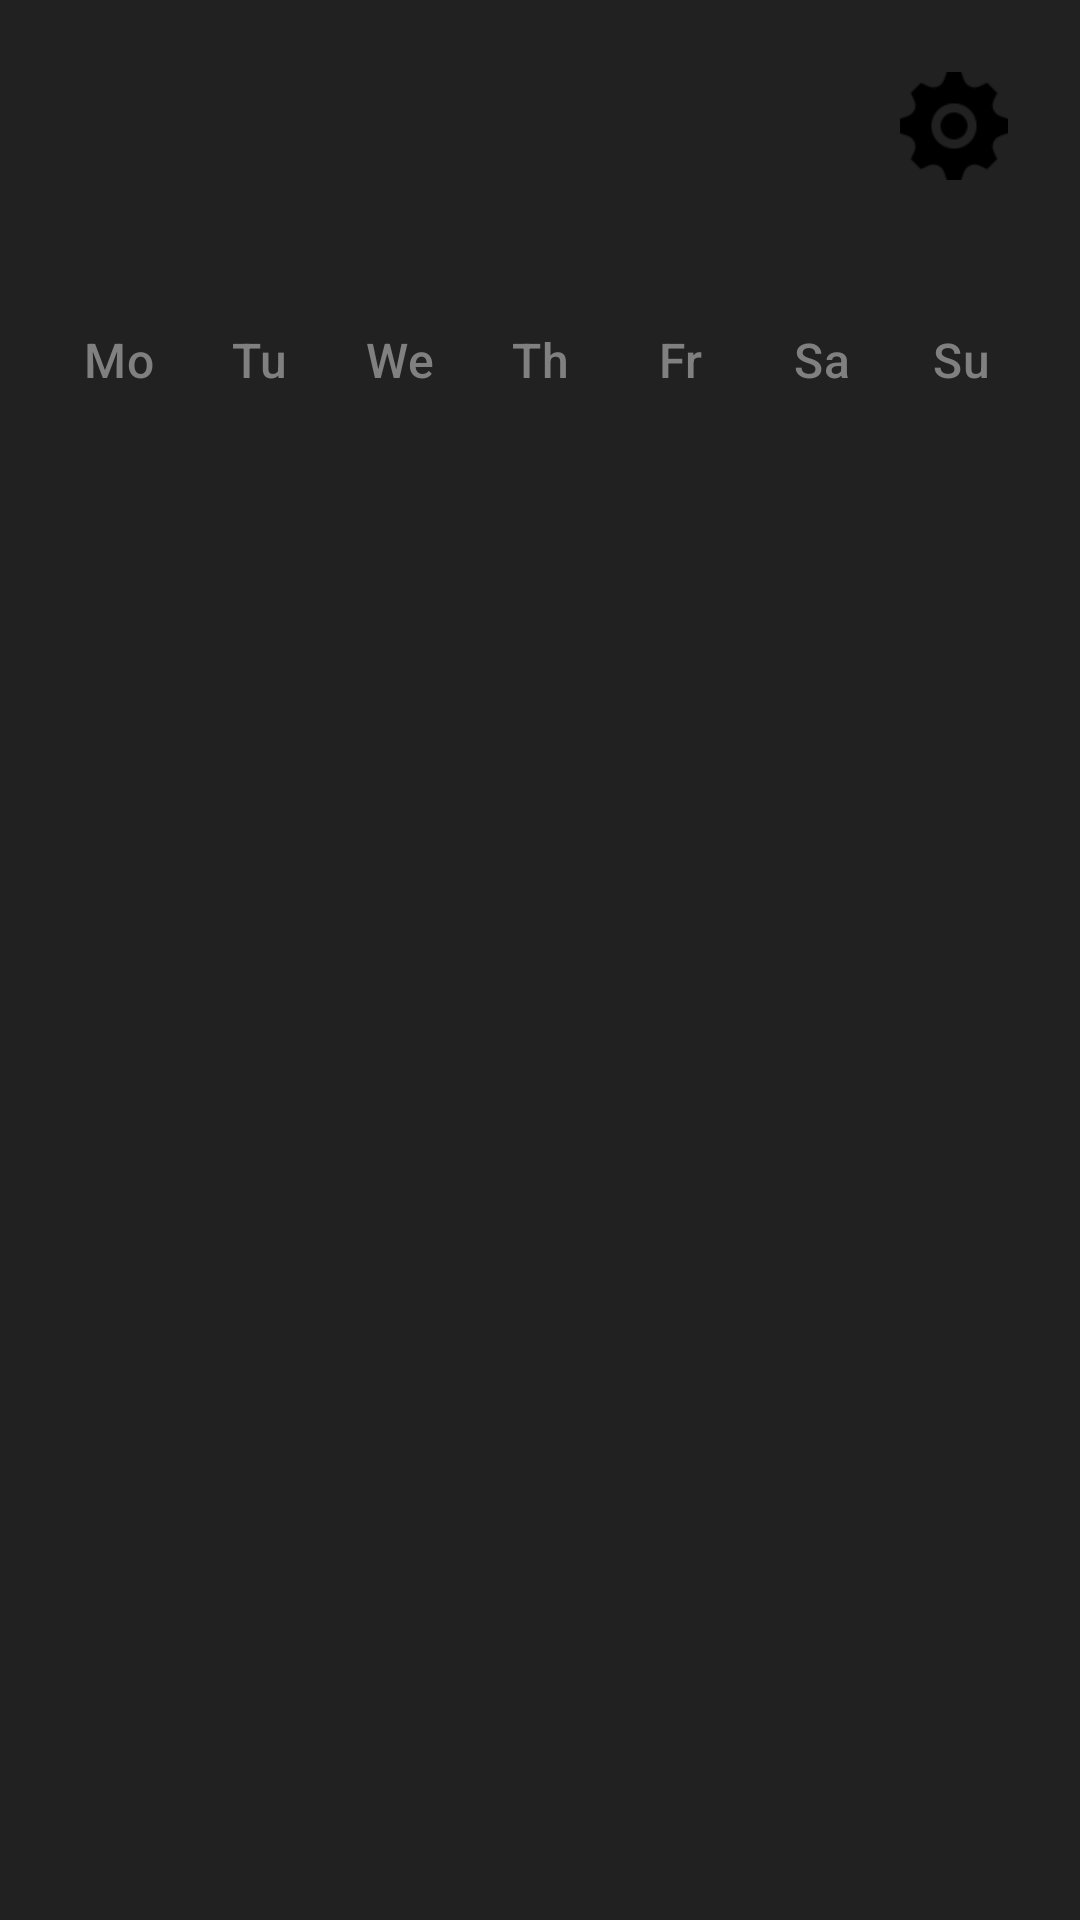

Icons on this 1080×1920 Android screen, each with the point to tap as (x=x, y=y):
settings: (x=954, y=126)
